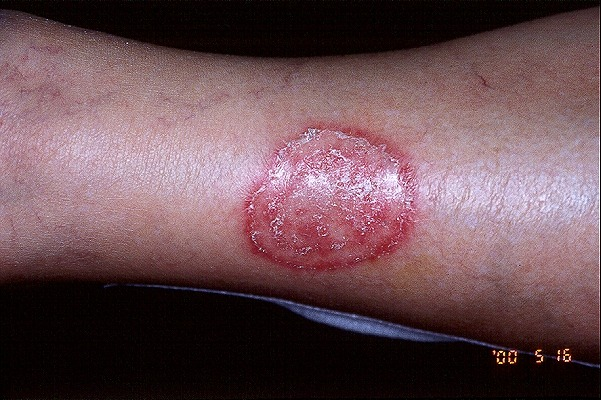Psoriasis: (222, 116, 434, 282)
